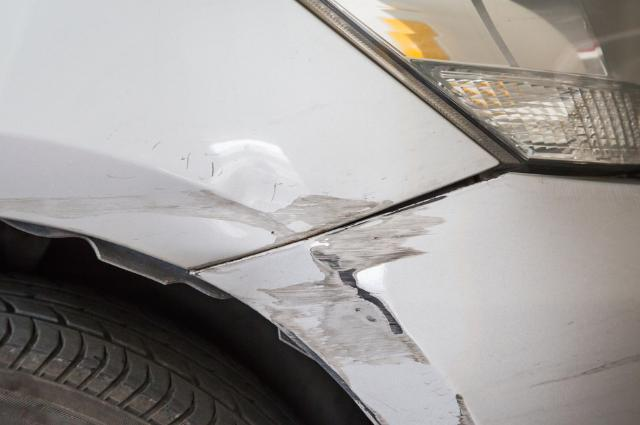Bumper: (202, 171, 603, 425)
Fender: (73, 66, 497, 277)
